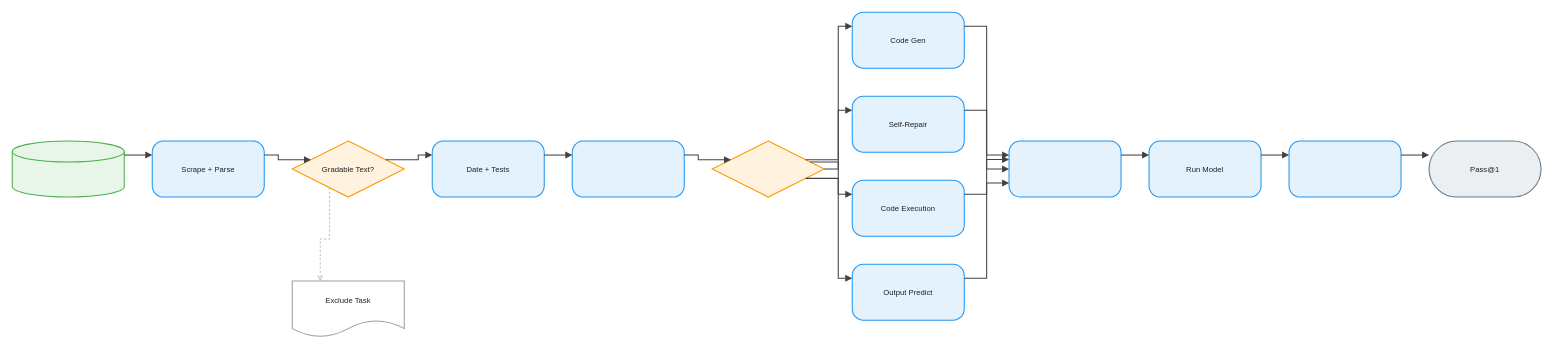
This 1554x350 diagram has some shape labels left out. The shapes that lost their labels are listed below. From the top down, each one's centre as x and y in pixels, then its label:
the point at 67,168: Contest Sites
the point at 627,168: Easy/Med/Hard
the point at 767,168: Build Scenario
the point at 1064,168: Cutoff Window
the point at 1344,168: Exec / Equiv.
